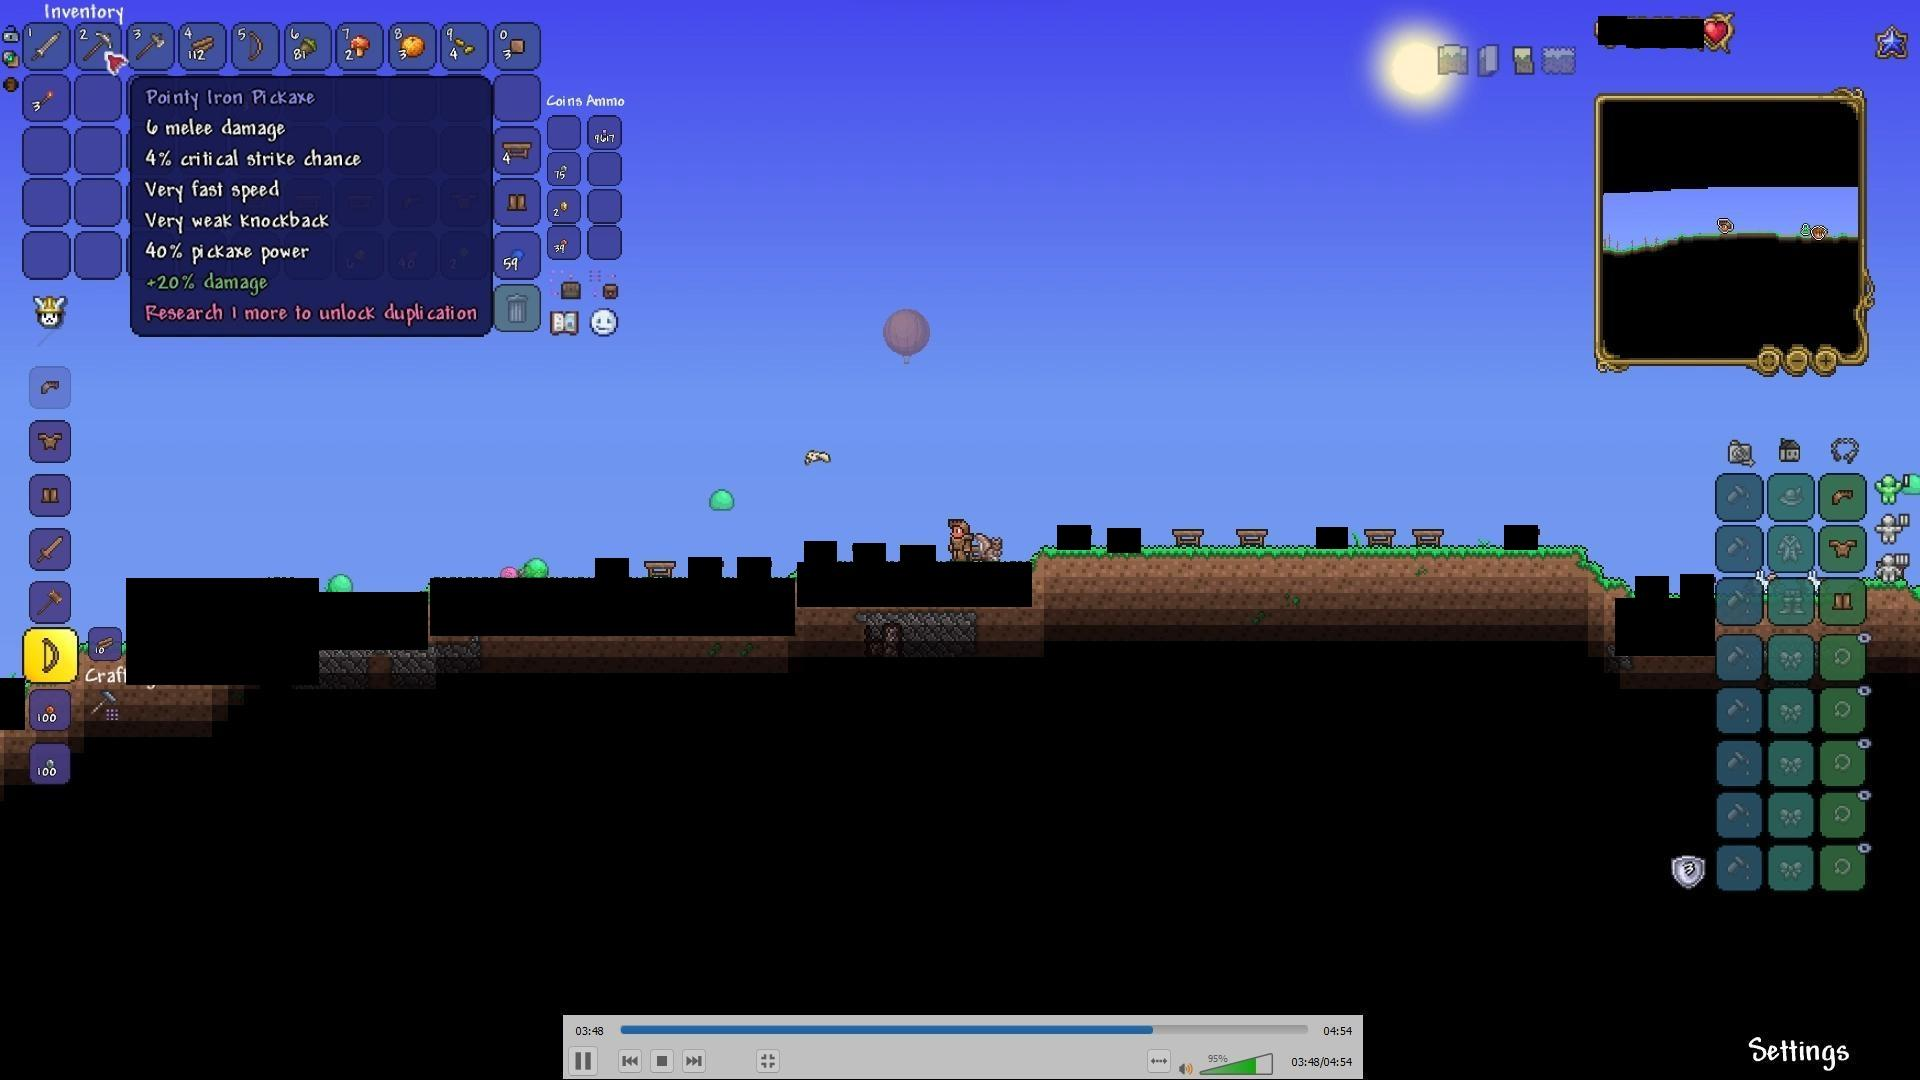breastplate: (36, 429, 65, 451), (1832, 537, 1859, 558)
dirt: (1035, 546, 1613, 599), (1869, 578, 1917, 622)
heart: (1705, 18, 1731, 46)
helmet: (32, 373, 66, 402), (1829, 484, 1858, 509)
legs: (37, 481, 65, 510), (1832, 588, 1857, 616), (505, 186, 530, 214)
slime: (323, 567, 355, 596), (708, 487, 741, 514), (488, 551, 520, 579), (526, 550, 558, 578)
wood: (88, 632, 117, 658), (189, 34, 214, 58)
workbench: (500, 138, 535, 162), (644, 558, 676, 582), (1411, 526, 1444, 550), (1362, 526, 1395, 550), (1172, 527, 1203, 550), (1237, 529, 1267, 550)
